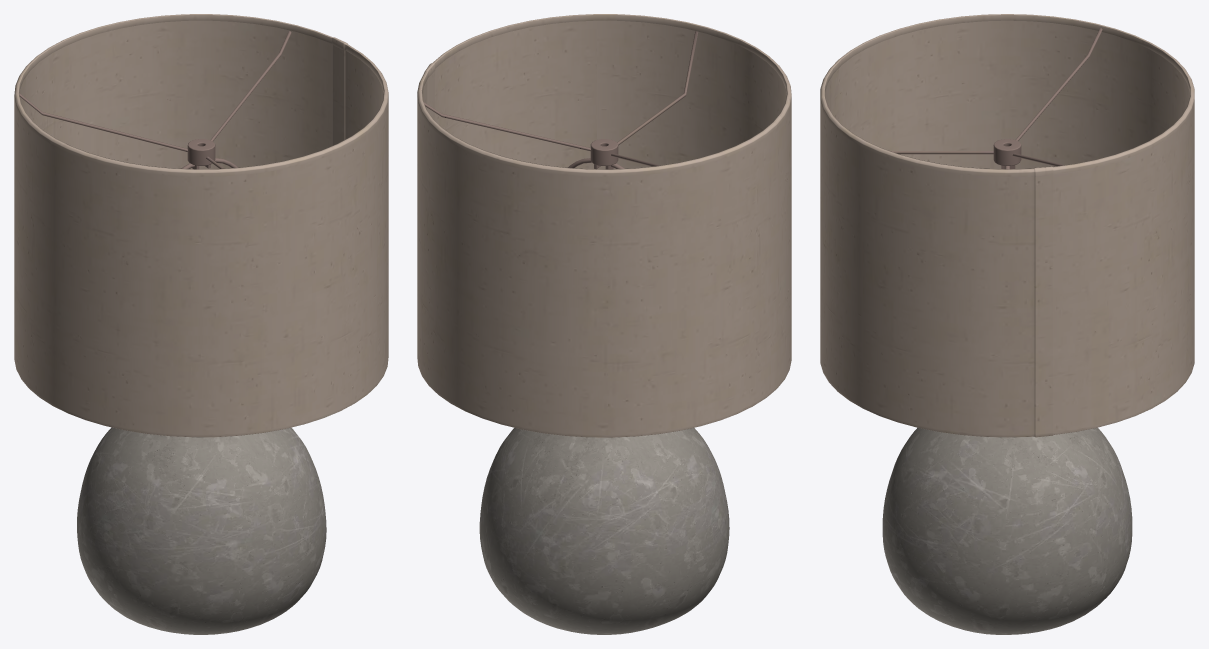
Rendered from abo-B073755HVV.glb.
The picture shows the model from 3 angles, left to right: view 1: azimuth 30°, elevation 25°; view 2: azimuth 150°, elevation 25°; view 3: azimuth 270°, elevation 25°; orthographic projection.
Size of the model in its own units: 0.269 by 0.409 by 0.269.
Materials: 1 (1 with a texture image).
